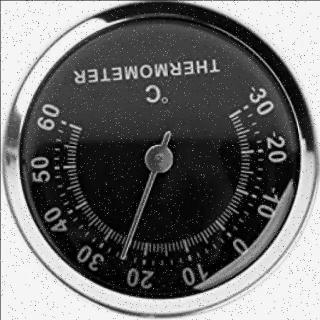gauge: (0, 0, 320, 320), (60, 110, 98, 147), (213, 95, 251, 131), (142, 142, 174, 176), (115, 247, 131, 264)
